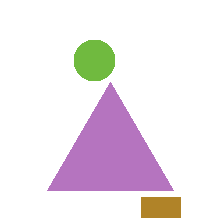circle: (74, 40, 114, 80)
rectangle: (141, 197, 180, 217)
triangle: (47, 82, 173, 190)
